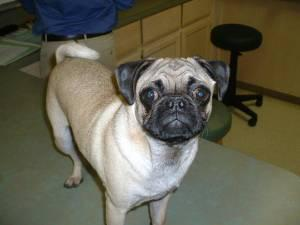dog-pug: (113, 56, 228, 137)
